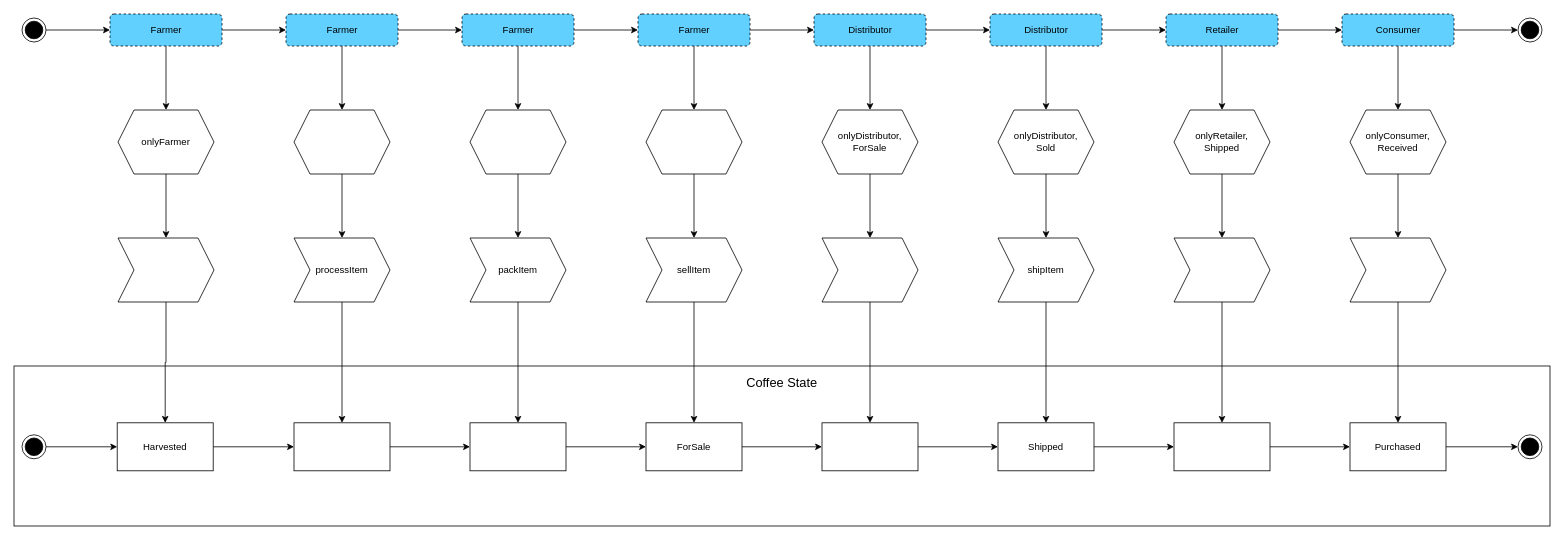
Some shapes in this 1564 by 540 pixel diagram are drawn without their labels. The shapes that lost their labels are listed below. From the top down, each one's centre as x and y in pixels, then its label:
At point 341,141: "onlyFarmer, Harvested".
At point 517,141: "onlyFarmer, Processed".
At point 693,141: "onlyFarmer, Packed".
At point 165,269: "harvest".
At point 869,269: "buyItem".
At point 1221,269: "receiveItem".
At point 1397,269: "purchaseItem".
At point 341,446: "Processed".
At point 517,446: "Packed".
At point 869,446: "Sold".
At point 1221,446: "Received".
